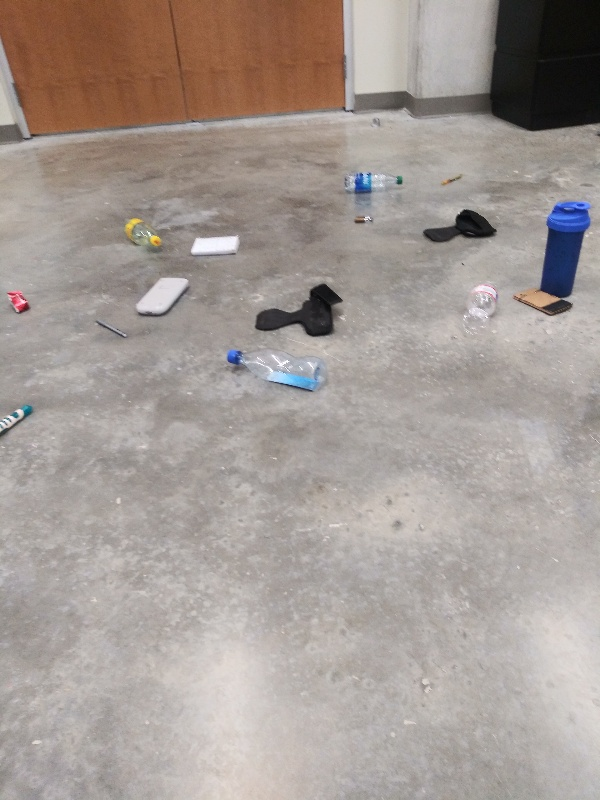bottle: (221, 345, 329, 393), (458, 274, 504, 339), (339, 169, 409, 197), (119, 213, 163, 251)
